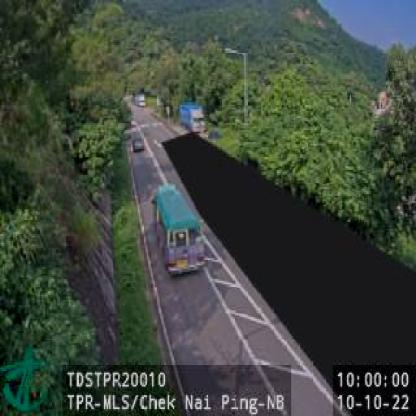Car: (131, 135, 144, 152)
Minibus: (154, 186, 206, 276)
Truck: (178, 99, 208, 133)
